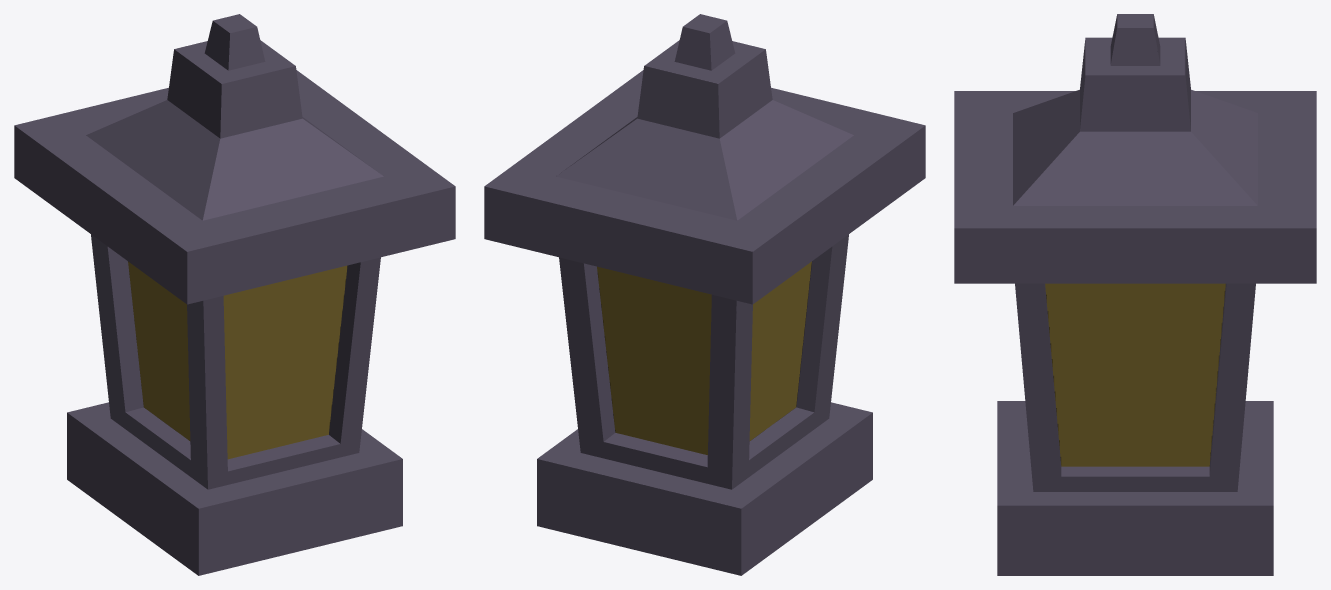
Rendered from LanternStandAlpha.glb.
The picture shows the model from 3 angles, left to right: view 1: azimuth 30°, elevation 25°; view 2: azimuth 150°, elevation 25°; view 3: azimuth 270°, elevation 25°; orthographic projection. The views are drawn at different scales.
Parts seen in each view (by area): view 1: Cube; view 2: Cube; view 3: Cube.
Boxes of the visible parts, bbox=[...] form: Cube: bbox=[14, 14, 455, 575]; Cube: bbox=[484, 14, 925, 575]; Cube: bbox=[954, 14, 1316, 575].
Bounding box in the file's own units: 0.1071 × 0.1827 × 0.1194.
Materials: 2 (2 with a texture image).
